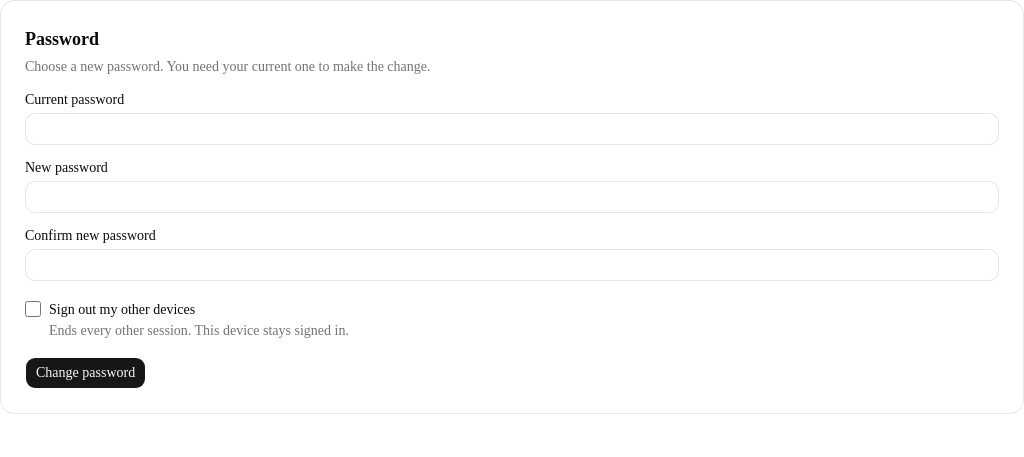
Test: ChangePasswordForm › refuses a mismatched confirmation without reaching the auth server
Type "the first correct password" into the password field labelled "Current password" at (512, 129), box left=25, top=113, right=999, bottom=145
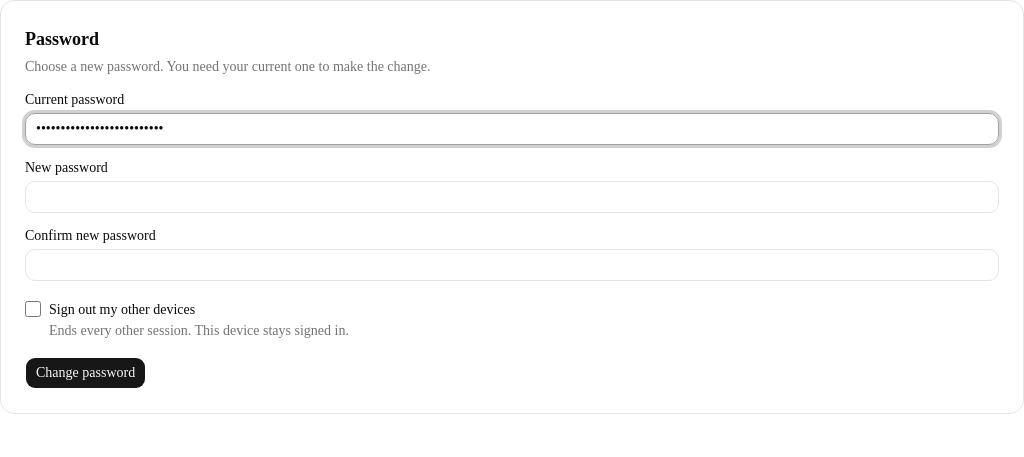
Type "a new long password" into the password field labelled "New password" at (512, 197), box left=25, top=181, right=999, bottom=213
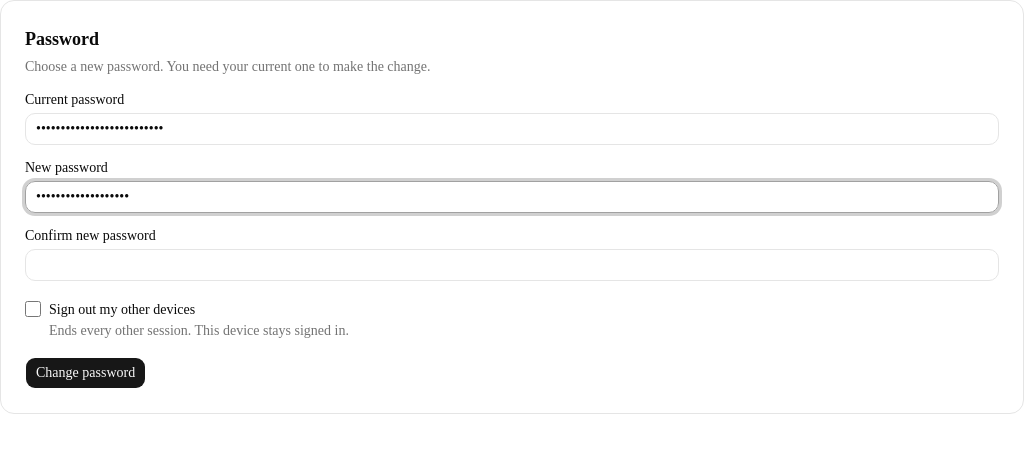
Type "something else entirely" into the password field labelled "Confirm new password" at (512, 265), box left=25, top=249, right=999, bottom=281
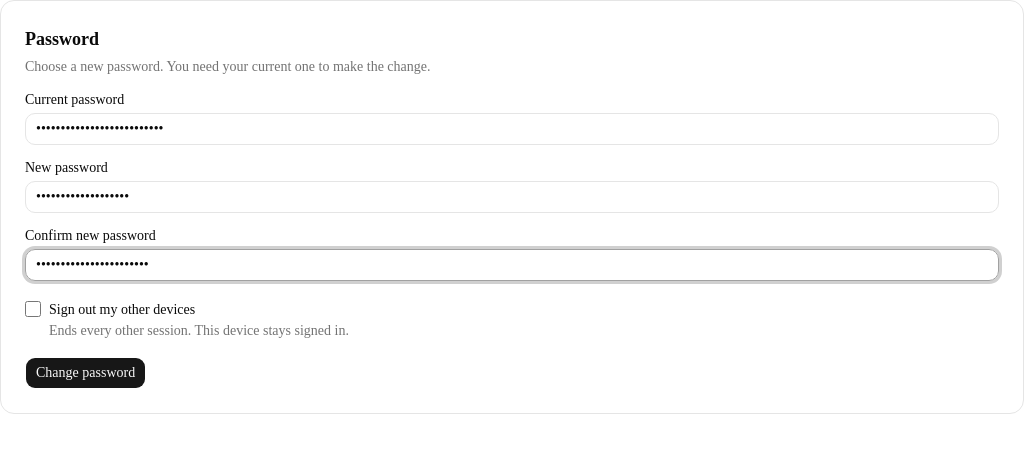
Click the button "Change password" at (86, 373), box left=25, top=357, right=146, bottom=389
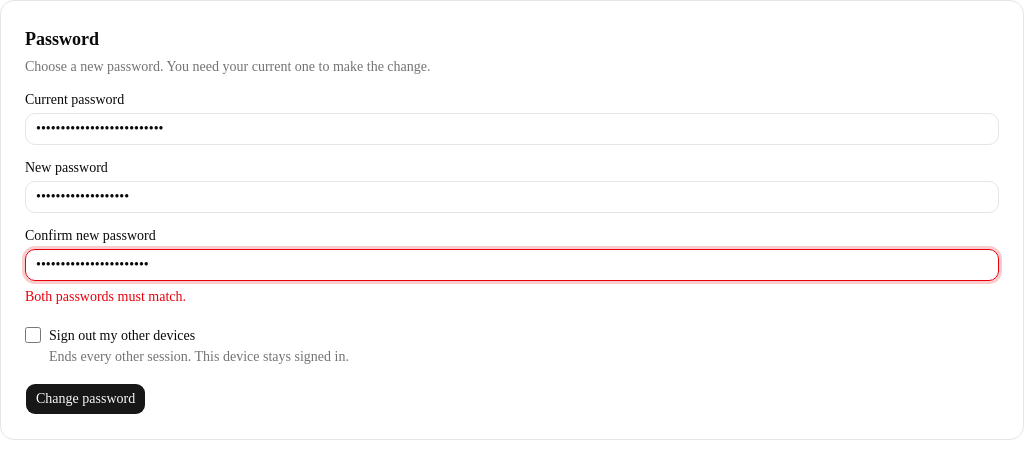
Expected: the text "Both passwords must match." is shown, left=25, top=289, right=186, bottom=304
